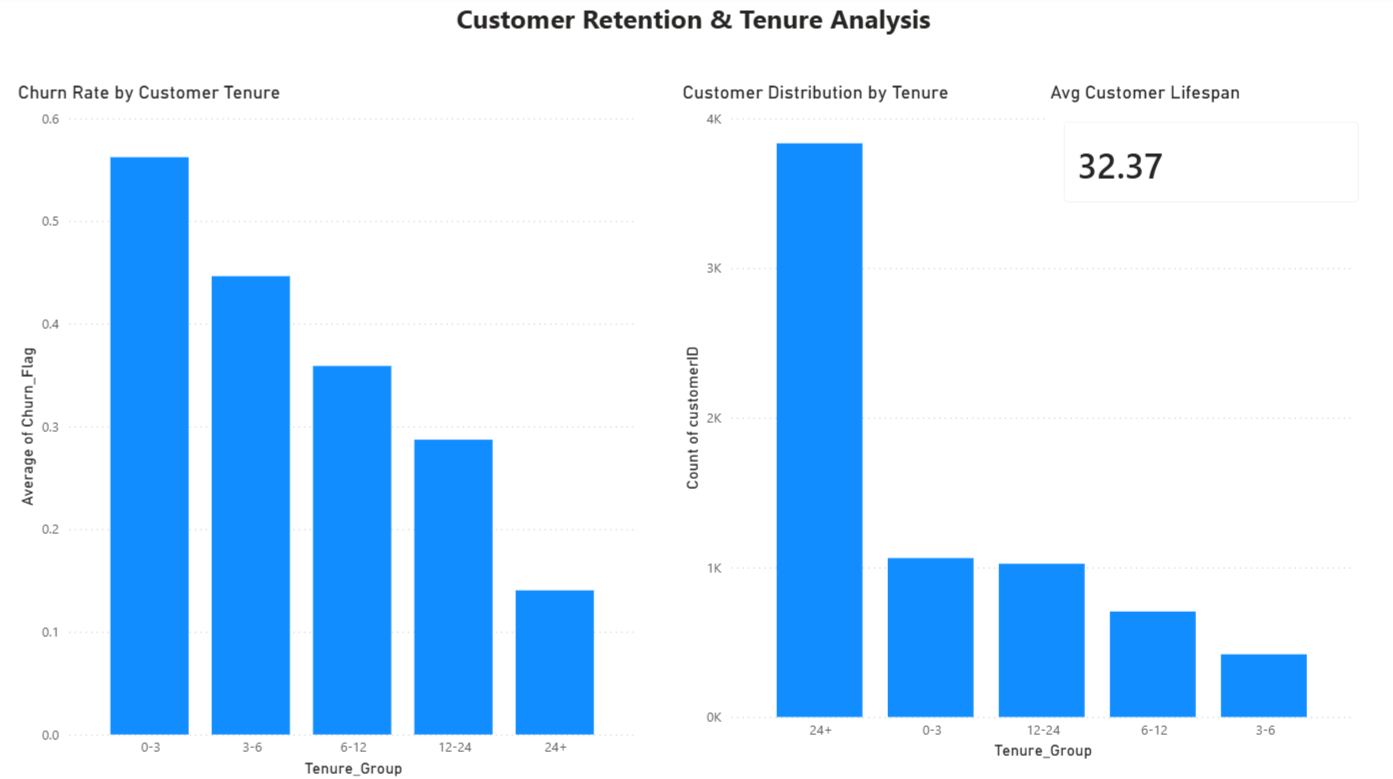

The dashboard page shown, as its layout file describes it:
{"tool":"powerbi","page":{"name":"Tenure Analysis","canvas":[1280,720],"ordinal":2},"visuals":[{"type":"textbox","box":[352,0,576,64],"z":0},{"type":"clusteredColumnChart","title":"Churn Rate by Customer Tenure","fields":{"Category":["WA_Fn-UseC_-Telco-Customer-Churn.Tenure_Group"],"Y":["Avg(WA_Fn-UseC_-Telco-Customer-Churn.Churn_Flag)"]},"box":[16,80,576,640],"z":1000},{"type":"clusteredColumnChart","title":"Customer Distribution by Tenure","fields":{"Y":["Count(WA_Fn-UseC_-Telco-Customer-Churn.customerID)"],"Category":["WA_Fn-UseC_-Telco-Customer-Churn.Tenure_Group"]},"box":[624,80,624,624],"z":2000},{"type":"cardVisual","title":"Avg Customer Lifespan","fields":{"Data":["Avg(WA_Fn-UseC_-Telco-Customer-Churn.tenure)"]},"box":[960,80,304,128],"z":3000}]}

Visuals, with their boxes in screenshot pixels (x1, y1, x2, y2), scaled from the page's 1280x720 canvas onto the 1393x779 screenshot:
textbox: (383, 0, 1010, 69)
"Churn Rate by Customer Tenure" clusteredColumnChart: (17, 87, 644, 778)
"Customer Distribution by Tenure" clusteredColumnChart: (679, 87, 1358, 762)
"Avg Customer Lifespan" cardVisual: (1045, 87, 1376, 225)
